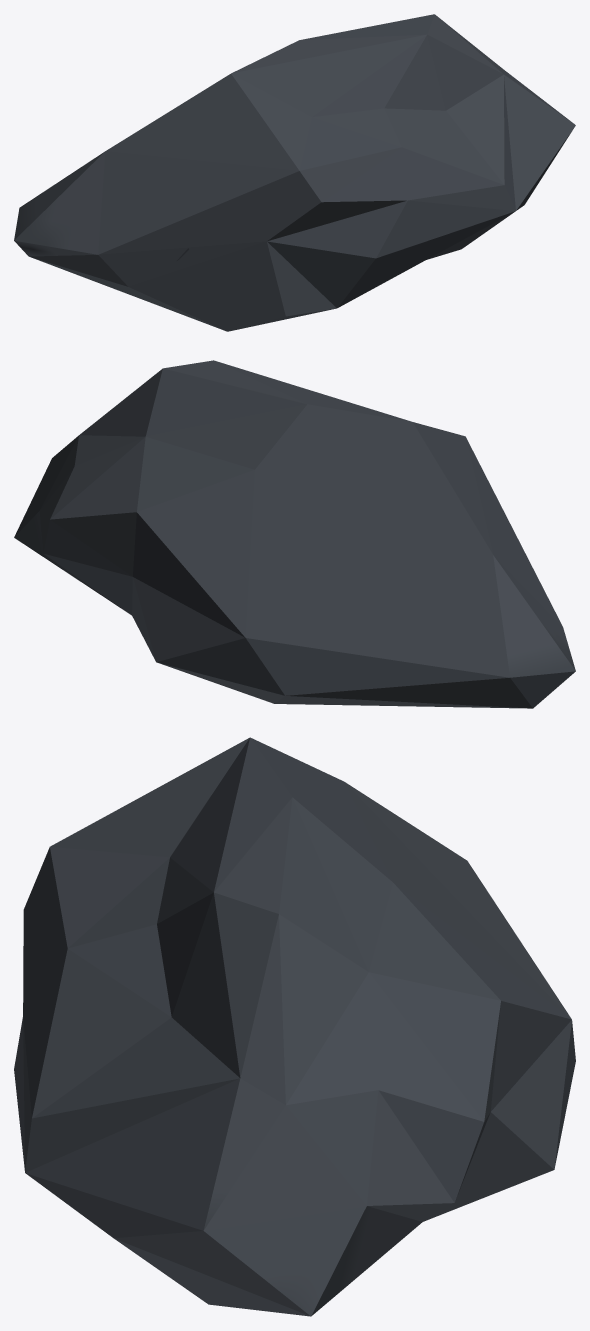
The model's file is stone_drop3_v1.fbx.
3 views of the same model, one above another, from view 1: azimuth 30°, elevation 25°; view 2: azimuth 150°, elevation 25°; view 3: azimuth 270°, elevation 25° (orthographic). The views are drawn at different scales.
Visible parts, largest first — view 1: stone_drop3_v1; view 2: stone_drop3_v1; view 3: stone_drop3_v1.
Boxes of the visible parts, x1=… form: stone_drop3_v1: x1=14, y1=14, x2=575, y2=331; stone_drop3_v1: x1=14, y1=360, x2=575, y2=708; stone_drop3_v1: x1=14, y1=737, x2=575, y2=1316.
Bounding box in the file's own units: 19.27 × 8.6 × 10.51.
